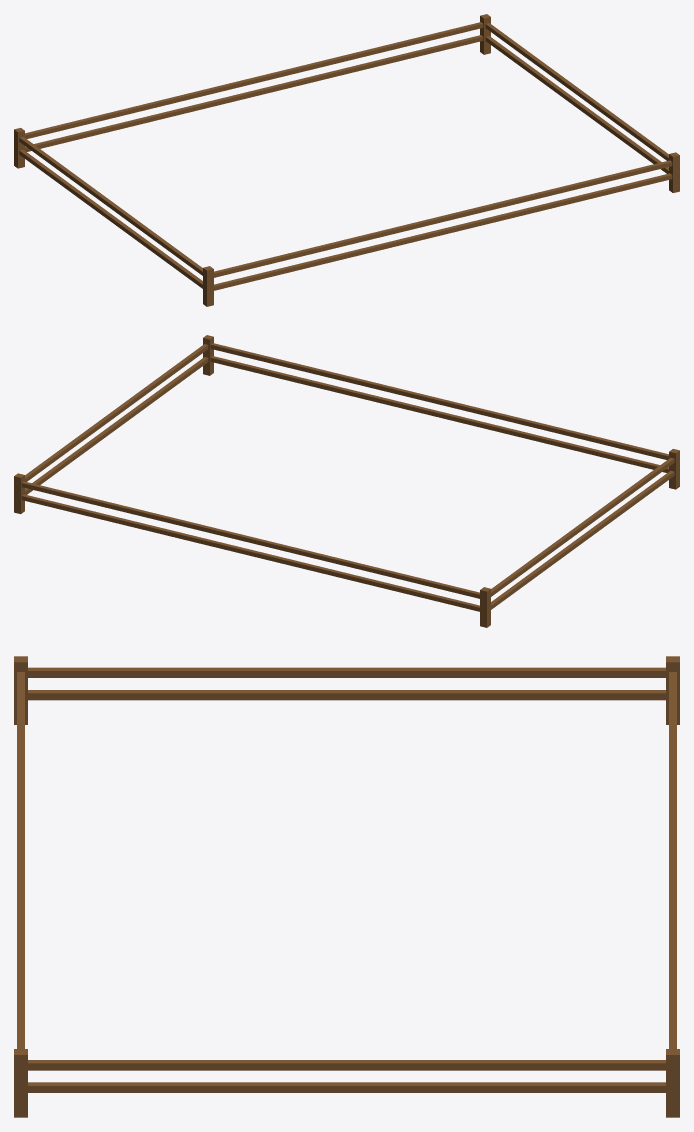
Rendered from fence.glb.
The picture shows the model from 3 angles, top to bottom: view 1: azimuth 30°, elevation 25°; view 2: azimuth 150°, elevation 25°; view 3: azimuth 270°, elevation 25°; orthographic projection. The views are drawn at different scales.
Parts seen in each view (by area): view 1: RailX.001, RailX, RailX.002, RailX.003, RailY, RailY.001, RailY.002, RailY.003; view 2: RailX.003, RailX.002, RailX, RailX.001, RailY, RailY.001, RailY.002, RailY.003; view 3: RailY, RailY.001, RailY.002, RailY.003, RailX, RailX.002, Post.002, Post.003.
Part boxes in pixels (x1,y1,x2,y2): RailX.001: (214, 173, 672, 290); RailX: (214, 160, 672, 277); RailX.002: (25, 22, 483, 138); RailX.003: (25, 35, 483, 151); RailY: (19, 136, 202, 275); RailY.001: (19, 149, 202, 288); RailY.002: (485, 23, 668, 160); RailY.003: (485, 36, 668, 173); RailX.003: (21, 494, 479, 611); RailX.002: (21, 481, 479, 598); RailX: (210, 343, 668, 459); RailX.001: (210, 356, 668, 472); RailY: (491, 457, 674, 596); RailY.001: (491, 470, 674, 609); RailY.002: (25, 344, 208, 481); RailY.003: (25, 357, 208, 494); RailY: (28, 667, 665, 677); RailY.001: (28, 690, 665, 700); RailY.002: (28, 1060, 665, 1070); RailY.003: (28, 1082, 665, 1092); RailX: (17, 672, 24, 1048); RailX.002: (669, 672, 676, 1048); Post.002: (14, 1049, 27, 1117); Post.003: (666, 1049, 679, 1117).
Size of the model in its own units: 9.54 by 0.7 by 6.74.
